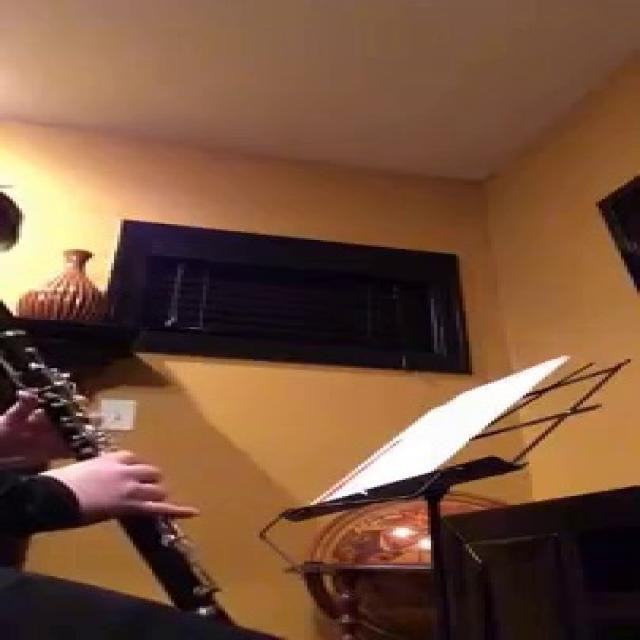Clarinet: (2, 286, 287, 630)
